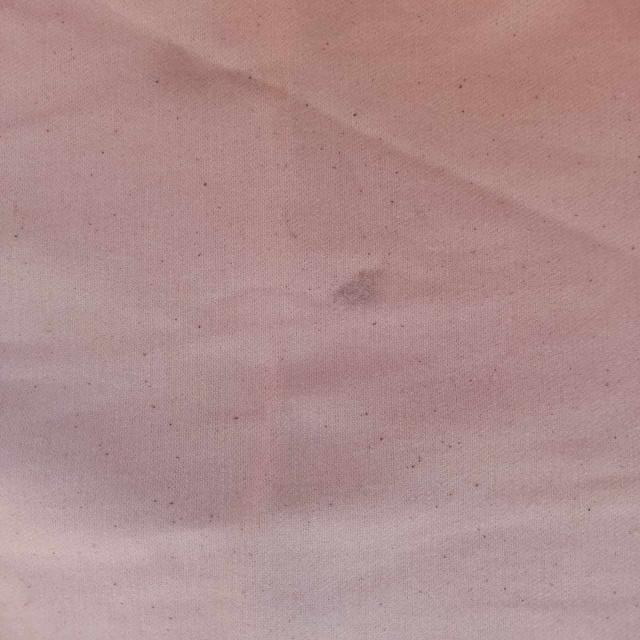taaaches: (332, 260, 393, 316)
